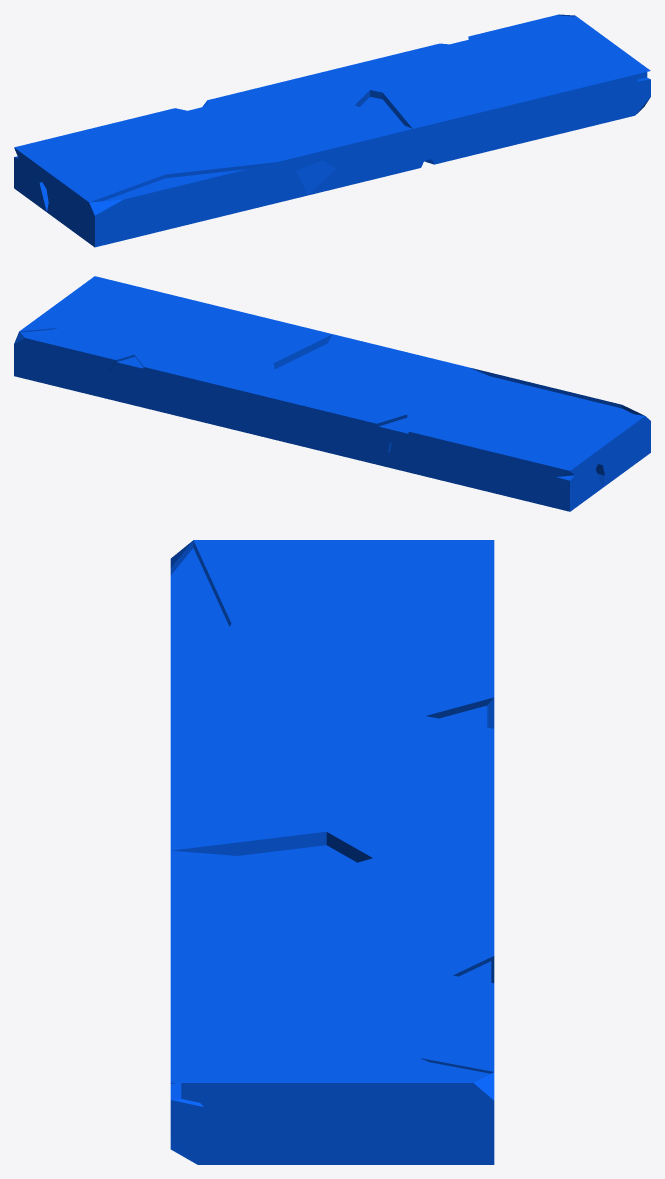
File: icetabua.fbx
The picture shows the model from 3 angles, top to bottom: view 1: azimuth 30°, elevation 25°; view 2: azimuth 150°, elevation 25°; view 3: azimuth 270°, elevation 25°; orthographic projection. The views are drawn at different scales.
Visible parts, largest first — view 1: icetabua; view 2: icetabua; view 3: icetabua.
Part boxes in pixels (x1,y1,x2,y2): icetabua: (14,14,650,247); icetabua: (14,276,650,511); icetabua: (170,540,494,1164).
Bounding box in the file's own units: 200 × 14.06 × 50.35.
